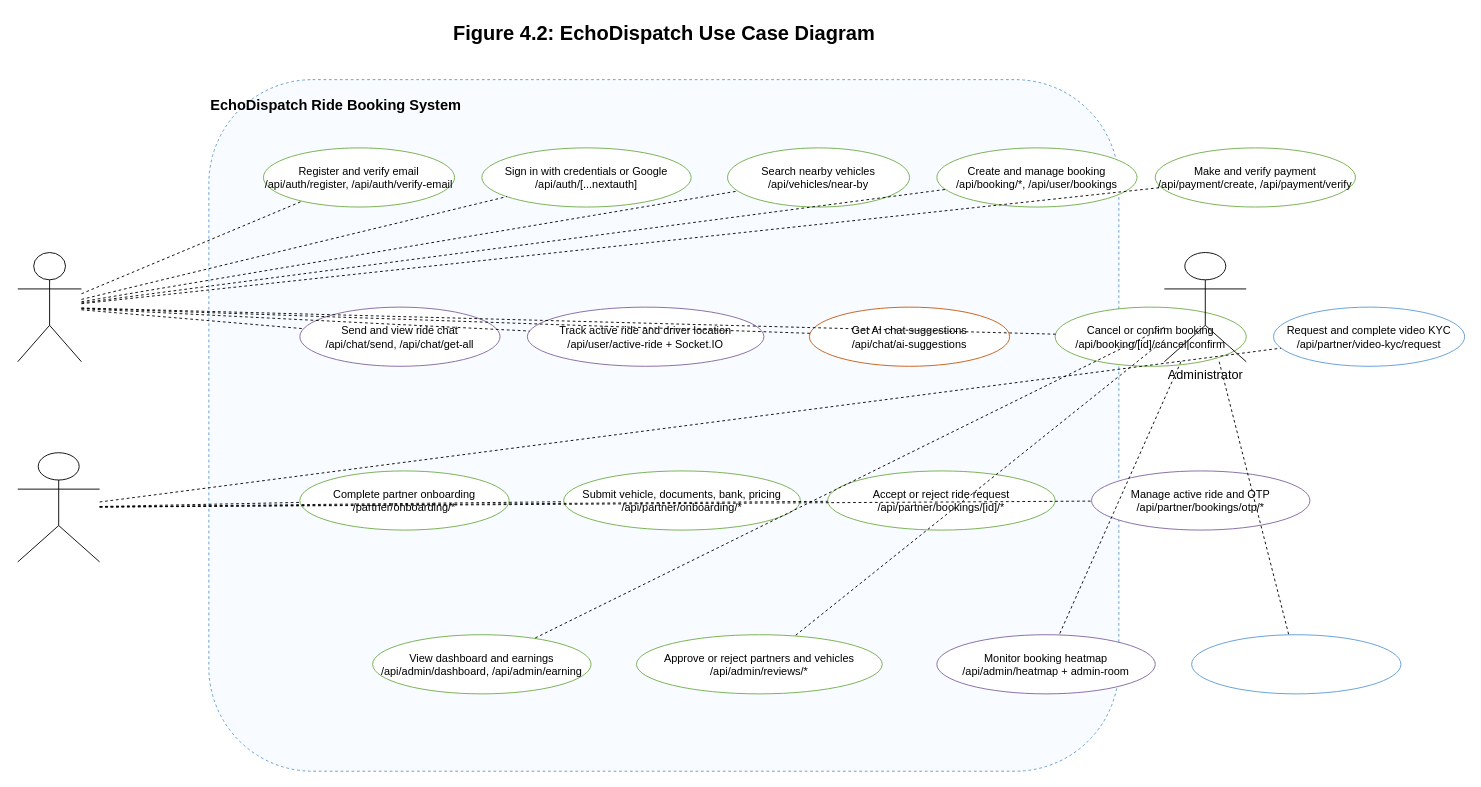
Image size: 1481x787. Some labels were removed from this diagram. The centre of each missing label's shape, as x and y in pixels:
"Partner / Driver" belongs at (58,507).
"Review and complete video KYC /api/admin/video-kyc/*" belongs at (1296,664).
"User" belongs at (49,307).
